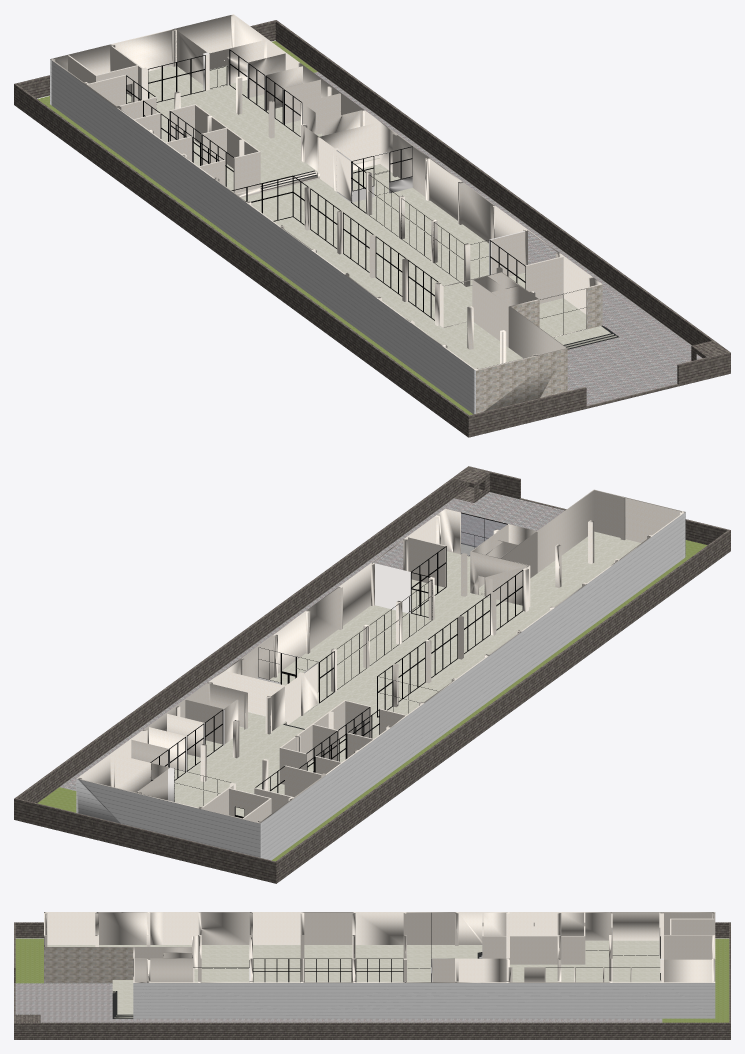
File: Without Furniture-4.glb
The picture shows the model from 3 angles, top to bottom: view 1: azimuth 30°, elevation 25°; view 2: azimuth 150°, elevation 25°; view 3: azimuth 270°, elevation 25°; orthographic projection. The views are drawn at different scales.
Visible parts, largest first — view 1: Group5, Group1, Group43, Group44, Group35, Group6, Group36, Group31, Group30, Group29, Group37, Group42 (+1 smaller); view 2: Group5, Group1, Group43, Group35, Group44, Group36, Group6, Group31, Group30, Group29, Group_21_1, Group37 (+1 smaller); view 3: Group5, Group1, Group44, Group43, Group36, Group6, Group35, Group31, Group8, Group18, Group7.
Boxes of the visible parts, x1,y1,x2,y2 form: Group5: (50, 14, 602, 414); Group1: (14, 20, 730, 437); Group43: (241, 164, 586, 368); Group44: (37, 41, 702, 415); Group35: (175, 30, 379, 202); Group6: (126, 65, 379, 191); Group36: (68, 46, 260, 193); Group31: (439, 272, 538, 347); Group30: (525, 256, 563, 303); Group29: (489, 231, 525, 276); Group37: (126, 75, 233, 186); Group42: (229, 49, 302, 136); Group5: (76, 489, 685, 860); Group1: (14, 466, 730, 883); Group43: (270, 531, 640, 738); Group35: (115, 662, 318, 800); Group44: (37, 492, 707, 861); Group36: (202, 700, 405, 821); Group6: (174, 712, 345, 818); Group31: (470, 524, 537, 607); Group30: (408, 537, 445, 587); Group29: (375, 563, 410, 613); Group_21_1: (461, 512, 507, 555); Group37: (255, 707, 379, 792); Group5: (44, 912, 715, 1018); Group1: (14, 922, 730, 1039); Group44: (15, 938, 729, 1022); Group43: (47, 945, 482, 982); Group36: (482, 912, 714, 964); Group6: (510, 940, 660, 982); Group35: (431, 958, 711, 982); Group31: (134, 936, 197, 982); Group8: (112, 980, 133, 1014); Group18: (253, 958, 300, 982); Group7: (112, 991, 133, 1018).
Size of the model in its own units: 100 by 17 by 300.
Materials: 15 (10 with a texture image).
